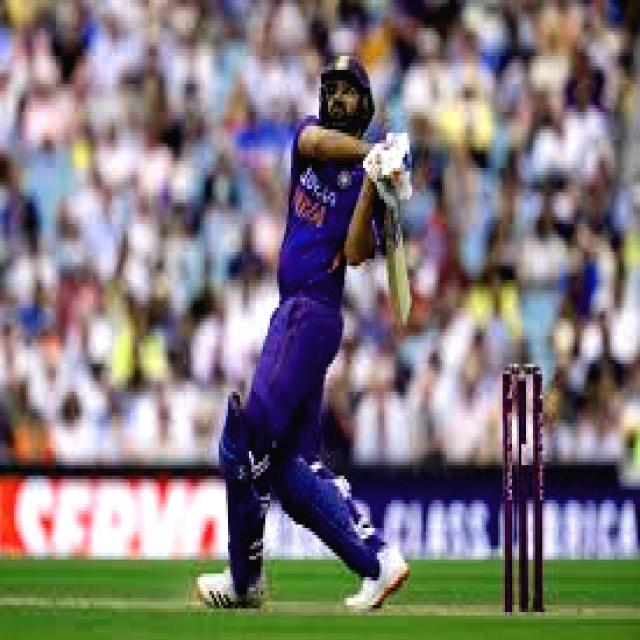toe: (390, 291, 410, 328)
